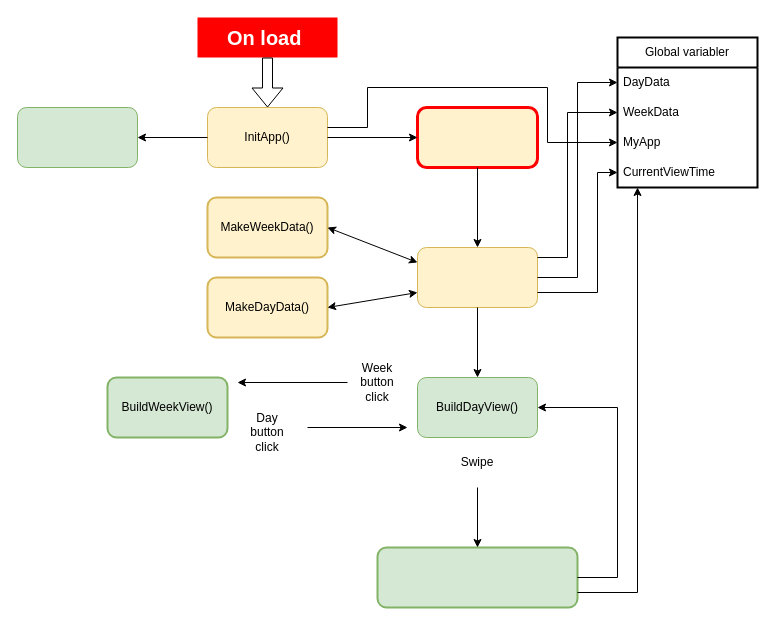
The diagram is 776 pixels wide and 625 high, and some of its shapes have lost their labels. The shapes that lost their labels are listed below. From the top down, each one's box as (x1, y1, x2, y2) in pixels, then its label:
(16, 106, 138, 168): BuildLoadingScreen()
(416, 106, 538, 168): FetchData()
(416, 246, 538, 308): DataConversion()
(376, 546, 578, 608): SwipeDetection()
